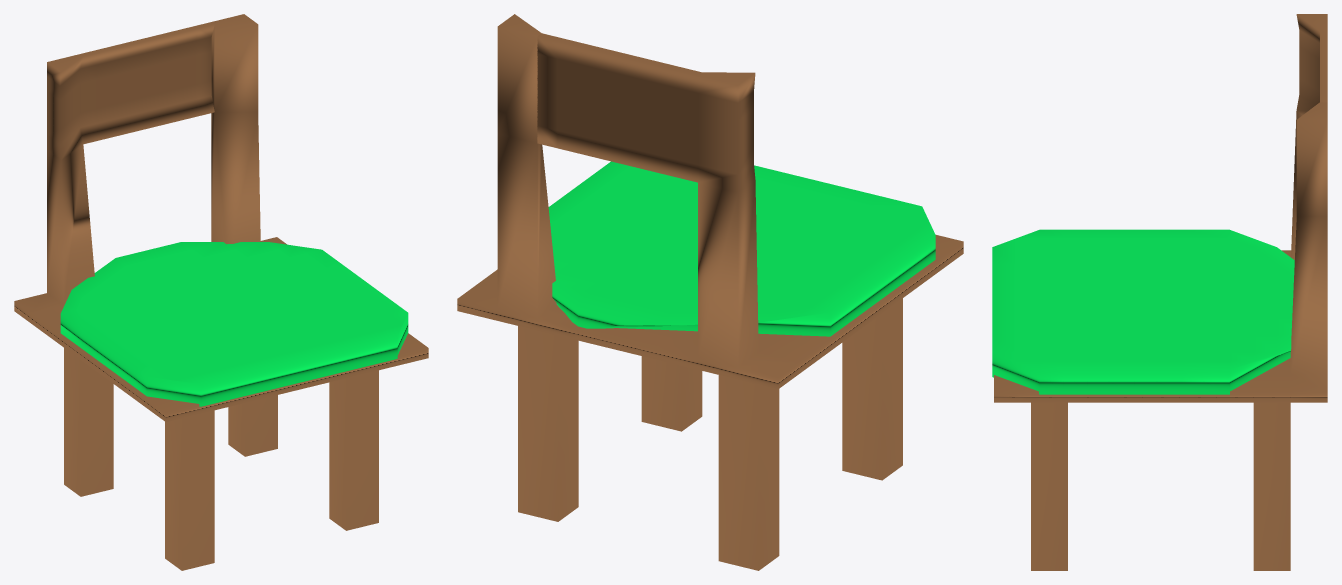
The model's file is chair.fbx.
The picture shows the model from 3 angles, left to right: view 1: azimuth 30°, elevation 25°; view 2: azimuth 150°, elevation 25°; view 3: azimuth 270°, elevation 25°; orthographic projection. The views are drawn at different scales.
Parts seen in each view (by area): view 1: chair, cushion; view 2: chair, cushion; view 3: cushion, chair.
Boxes of the visible parts, <box> form: chair: <box>14,14,428,570</box>; cushion: <box>60,242,408,406</box>; chair: <box>457,14,963,570</box>; cushion: <box>548,161,935,336</box>; cushion: <box>992,229,1294,394</box>; chair: <box>994,14,1327,570</box>.
Size of the model in its own units: 201 by 300 by 202.
